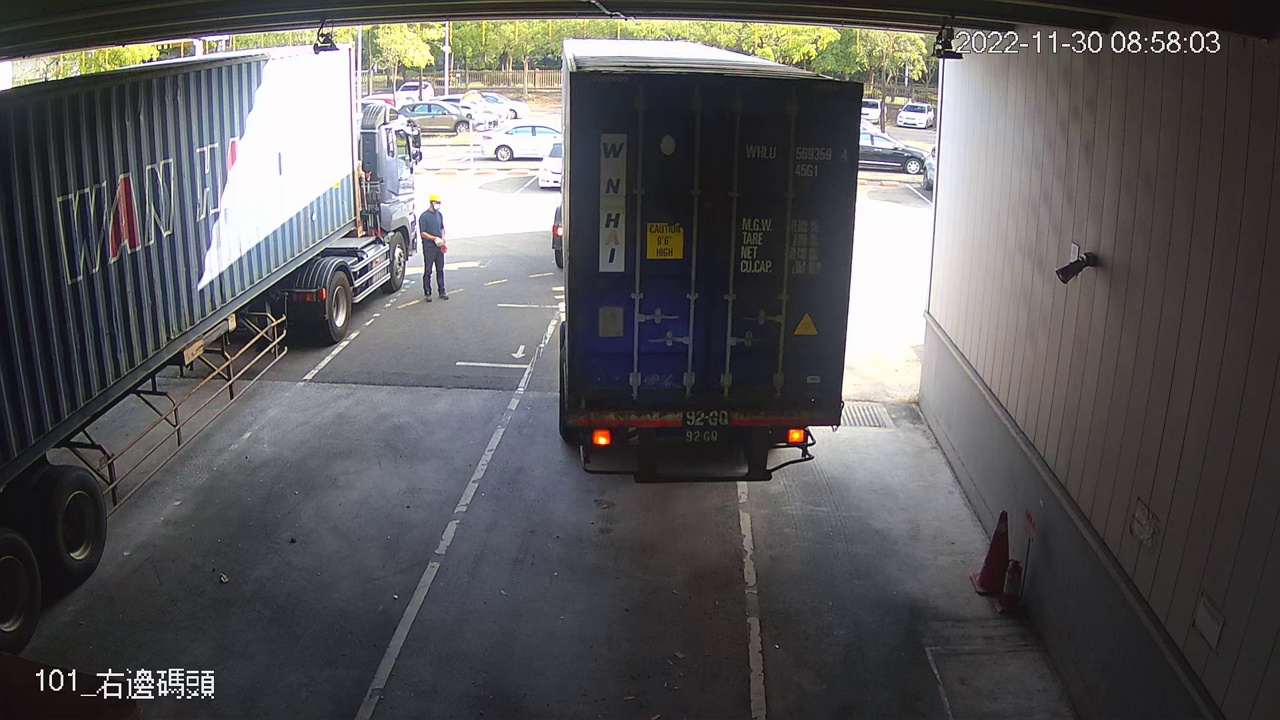container: (742, 139, 855, 181)
